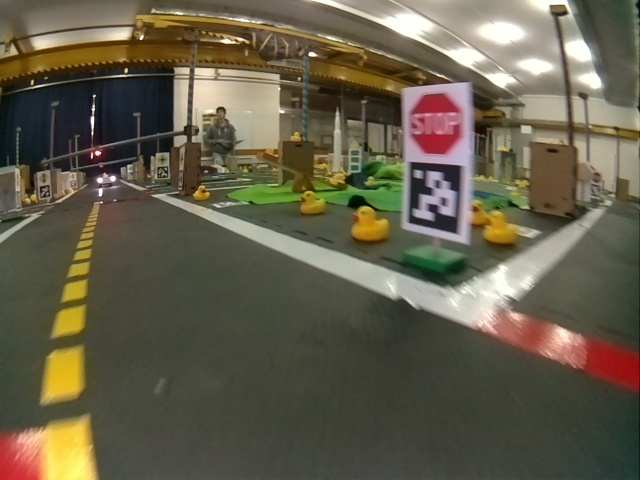Duckie: (351, 205, 388, 241), (485, 213, 515, 243), (300, 192, 326, 213), (472, 198, 486, 223), (193, 185, 210, 200)
QR code: (404, 161, 465, 237), (213, 200, 249, 208)
Stop sign: (408, 91, 465, 157)
Traffic light: (92, 148, 102, 157)
